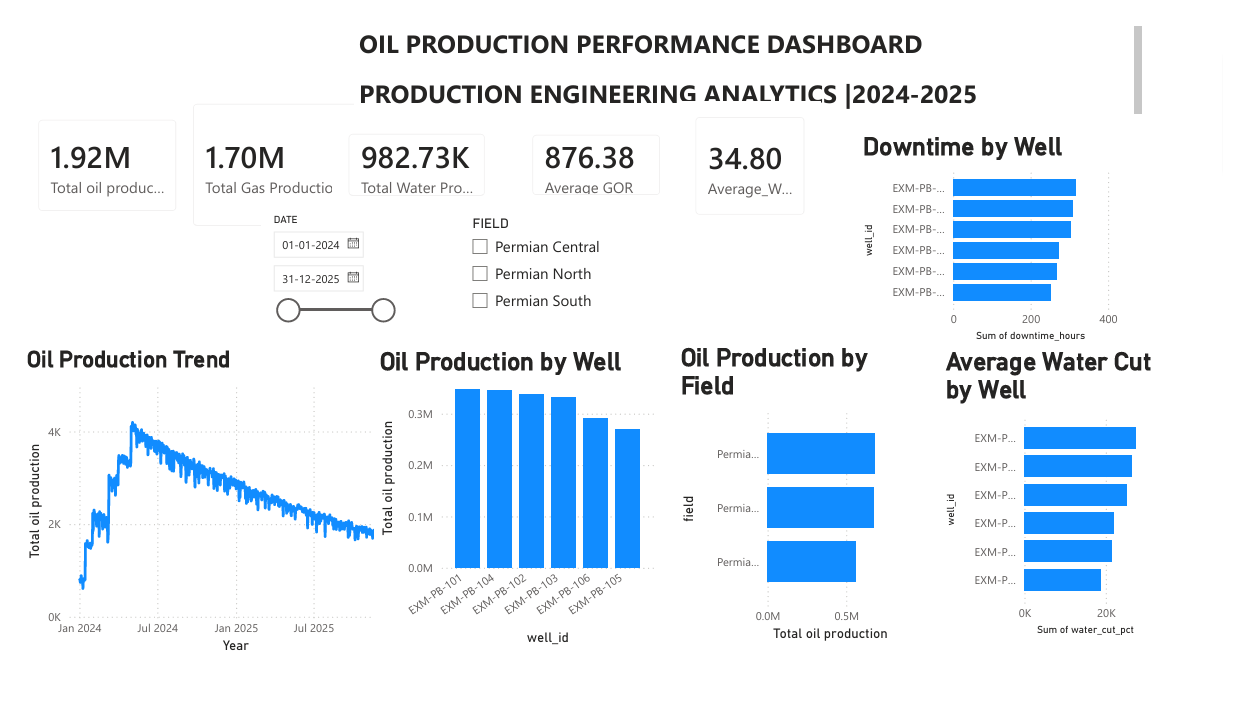

The page's visual inventory and layout, read from the dashboard file:
{"tool":"powerbi","page":{"name":"Page 1","canvas":[1280,720],"ordinal":0},"visuals":[{"type":"cardVisual","fields":{"Data":["daily_production_data.Total oil production"]},"box":[0,87.8,181.1,131.7],"z":0},{"type":"cardVisual","fields":{"Data":["daily_production_data.Total Gas Production"]},"box":[164.7,71.4,225,164.7],"z":1},{"type":"cardVisual","fields":{"Data":["daily_production_data.Total Water Production"]},"box":[330.7,102.9,179.8,100.2],"z":2},{"type":"lineChart","title":"Oil Production Trend","fields":{"Y":["daily_production_data.Total oil production"],"Category":["daily_production_data.date.Variation.Date Hierarchy.Year","daily_production_data.date.Variation.Date Hierarchy.Quarter","daily_production_data.date.Variation.Date Hierarchy.Month","daily_production_data.date.Variation.Date Hierarchy.Day"]},"box":[0,347.2,421.3,332.1],"z":3},{"type":"clusteredColumnChart","title":"Oil Production by Well","fields":{"Category":["daily_production_data.well_id"],"Y":["daily_production_data.Total oil production"]},"box":[376,347.2,301.9,323.8],"z":4},{"type":"clusteredBarChart","title":"Average Water Cut by Well","fields":{"Category":["daily_production_data.well_id"],"Y":["Sum(daily_production_data.water_cut_pct)"]},"box":[979.8,347.2,234.6,311.5],"z":5},{"type":"clusteredBarChart","title":"Oil Production by Field","fields":{"Category":["daily_production_data.field"],"Y":["daily_production_data.Total oil production"]},"box":[697.1,341.7,251.1,323.8],"z":6},{"type":"clusteredBarChart","title":"Downtime by Well","fields":{"Category":["daily_production_data.well_id"],"Y":["Sum(daily_production_data.downtime_hours)"]},"box":[891.9,116.6,281.3,229.2],"z":7},{"type":"slicer","fields":{"Values":["daily_production_data.field"]},"box":[466.6,201.7,172.9,133.1],"z":8},{"type":"slicer","fields":{"Values":["daily_production_data.date"]},"box":[255.2,200.3,150.9,145.5],"z":9},{"type":"textbox","box":[354,0,845.3,116.6],"z":11},{"type":"cardVisual","fields":{"Data":["daily_production_data.Average_Water Cut"]},"box":[701.2,85.1,150.9,138.6],"z":12},{"type":"cardVisual","fields":{"Data":["daily_production_data.Average GOR"]},"box":[526.9,104.3,170.2,98.8],"z":13}]}

Visuals, with their boxes in screenshot pixels (x1, y1, x2, y2), scaled from the page's 1280x720 canvas onto the 1241x711 screenshot:
cardVisual - daily_production_data.Total oil production: rect(0, 87, 176, 217)
cardVisual - daily_production_data.Total Gas Production: rect(160, 71, 378, 233)
cardVisual - daily_production_data.Total Water Production: rect(321, 102, 495, 201)
"Oil Production Trend" lineChart: rect(0, 343, 408, 671)
"Oil Production by Well" clusteredColumnChart: rect(365, 343, 657, 663)
"Average Water Cut by Well" clusteredBarChart: rect(950, 343, 1177, 650)
"Oil Production by Field" clusteredBarChart: rect(676, 337, 919, 657)
"Downtime by Well" clusteredBarChart: rect(865, 115, 1137, 341)
slicer - daily_production_data.field: rect(452, 199, 620, 331)
slicer - daily_production_data.date: rect(247, 198, 394, 341)
textbox: rect(343, 0, 1163, 115)
cardVisual - daily_production_data.Average_Water Cut: rect(680, 84, 826, 221)
cardVisual - daily_production_data.Average GOR: rect(511, 103, 676, 201)
